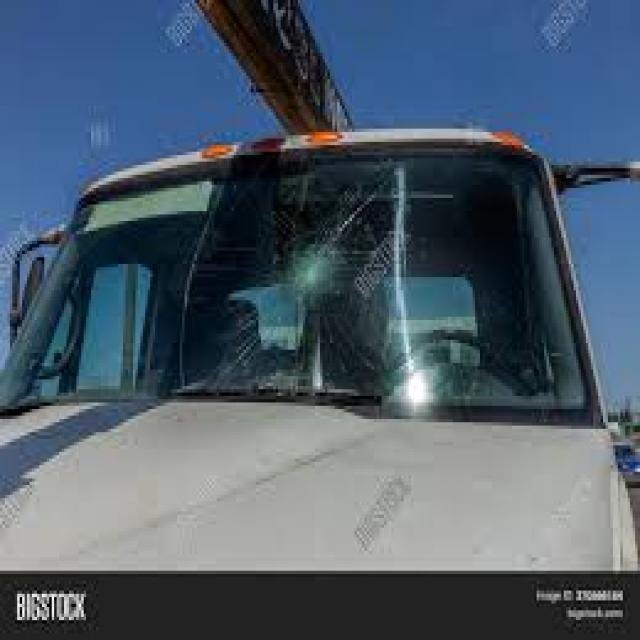damaged-windscreen: (11, 168, 573, 410)
